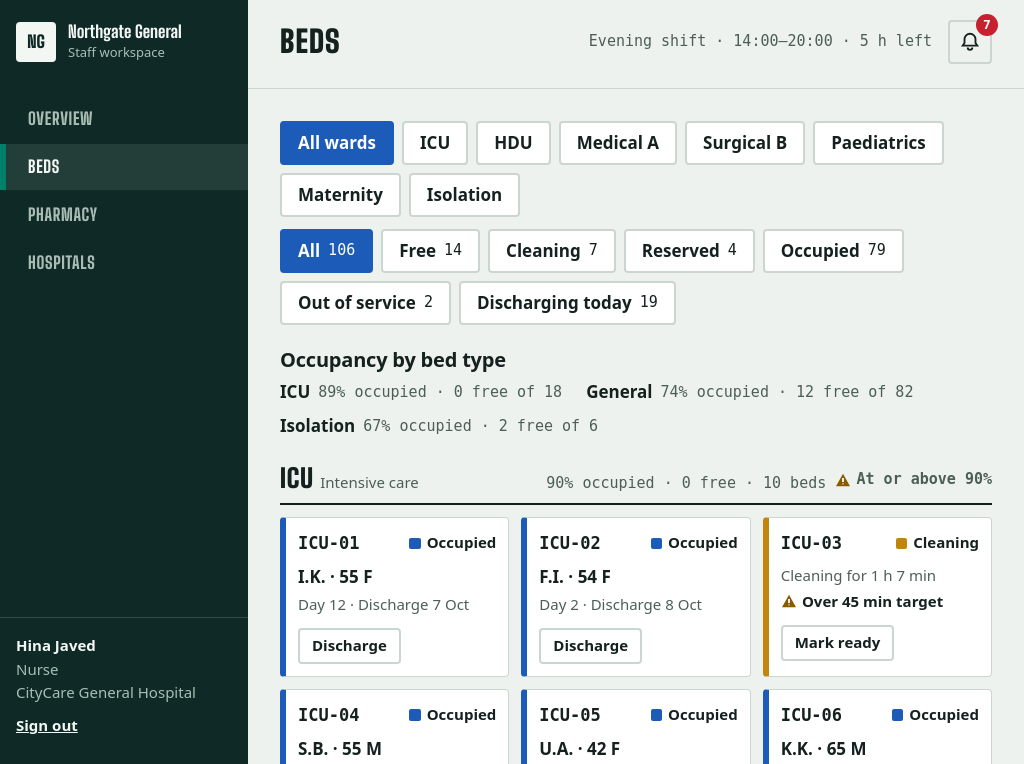
BedsPage › cancelling the confirmation leaves the patient in the bed
Click the button "Discharge " below "ICU-01". click: {"x": 349, "y": 646}
box: [298, 628, 401, 664]
(page scrolled)
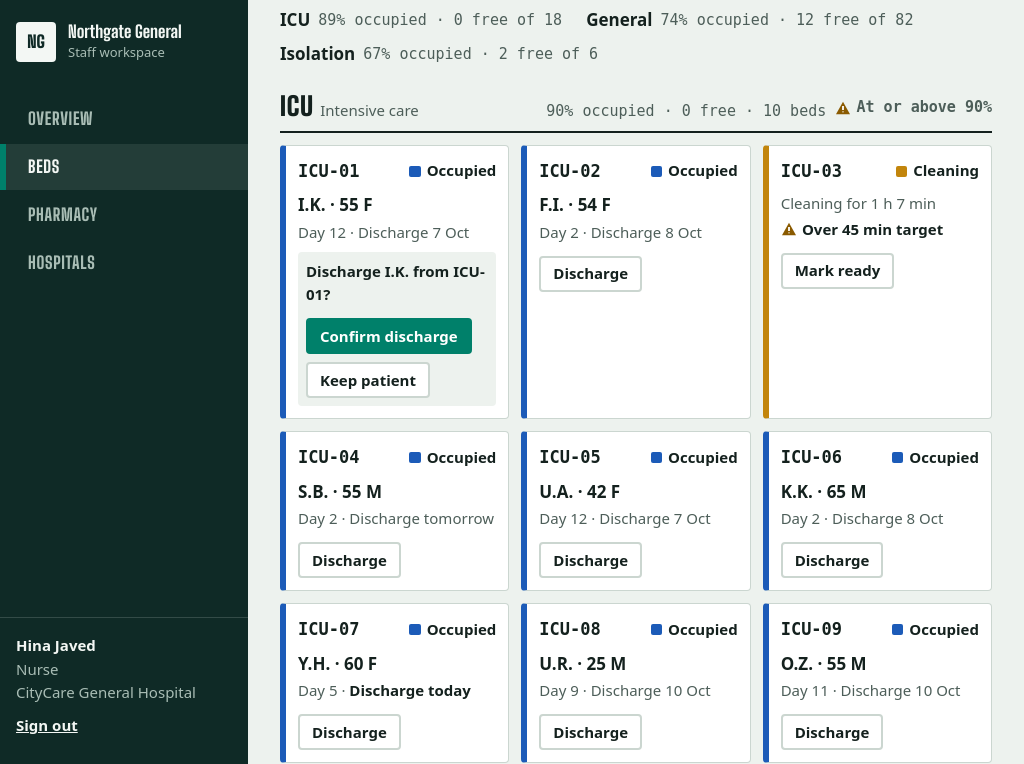
Click the button "Keep patient". click: {"x": 368, "y": 380}
box: [306, 362, 430, 398]
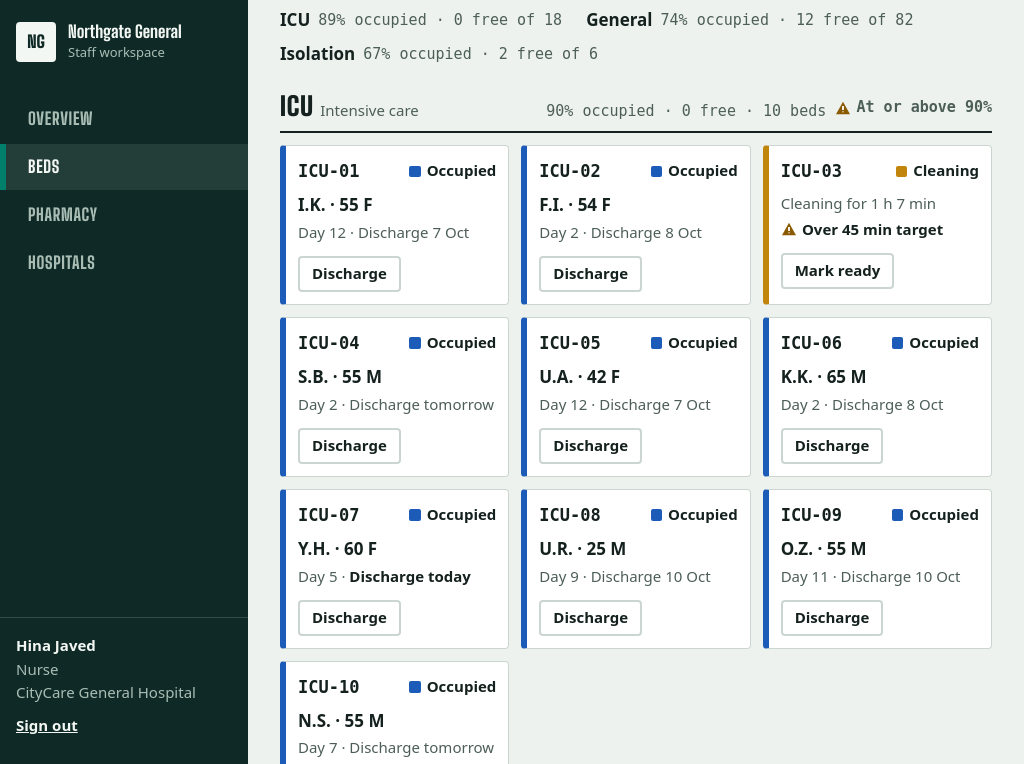
Now the button "Confirm discharge" is gone
